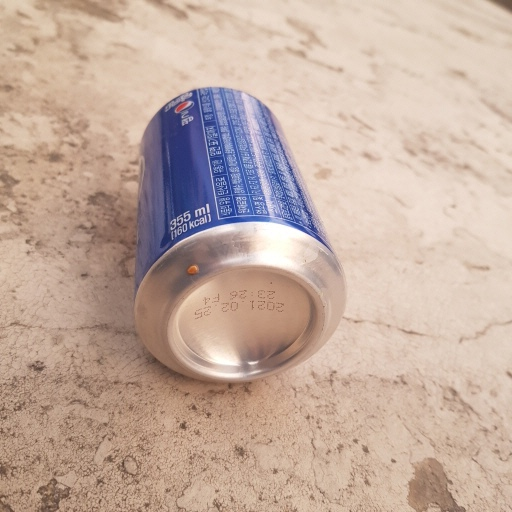Metal_0: (128, 88, 348, 381)
